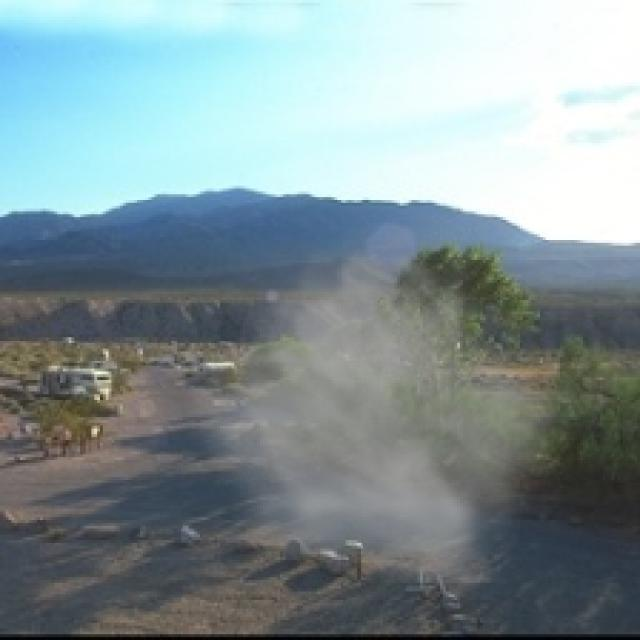Smoke: (174, 208, 569, 583)
